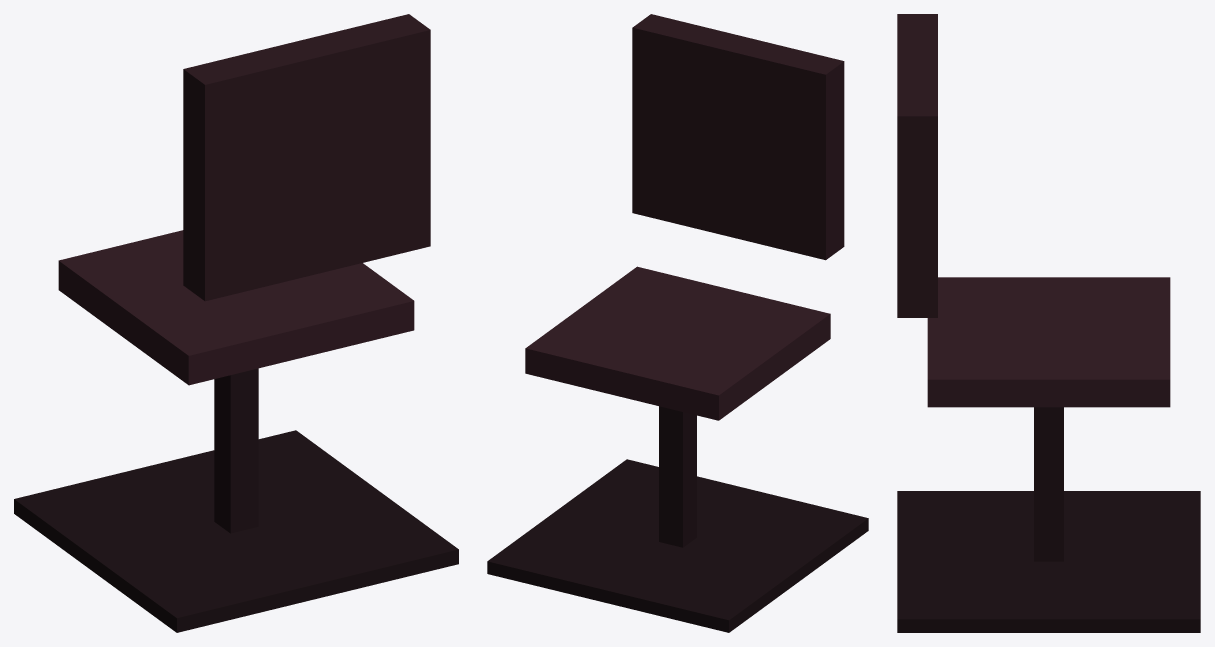
The model's file is office-chair.glb.
The picture shows the model from 3 angles, left to right: view 1: azimuth 30°, elevation 25°; view 2: azimuth 150°, elevation 25°; view 3: azimuth 270°, elevation 25°; orthographic projection. The views are drawn at different scales.
Bounding box in the file's own units: 60 × 111 × 60.
